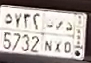2: (31, 12, 41, 52)
3: (22, 13, 32, 51)
5: (3, 13, 13, 50)
7: (12, 13, 22, 50)
D: (64, 21, 73, 54)
N: (44, 19, 54, 51)
X: (54, 20, 64, 52)
